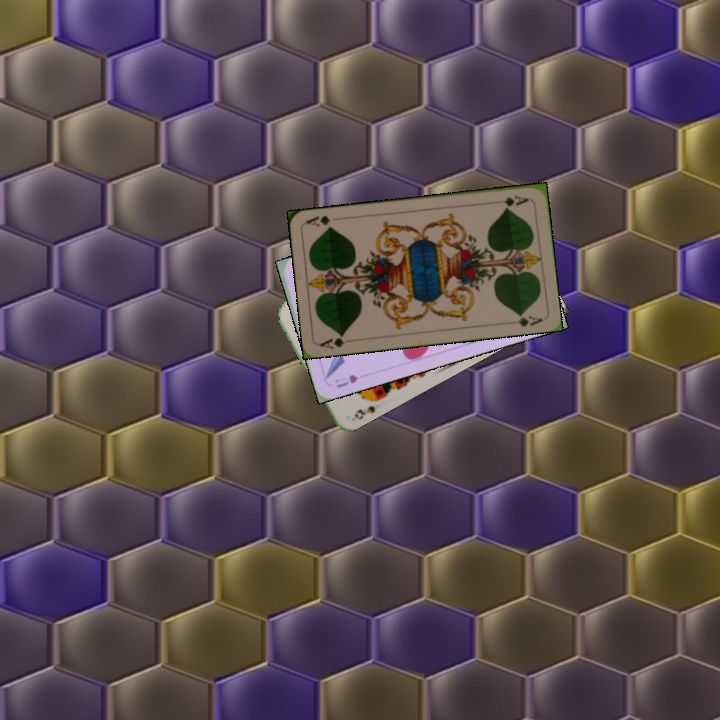GA: (491, 191, 531, 210), (317, 330, 347, 351)
HU: (331, 370, 361, 391)
S9: (350, 391, 383, 422)
